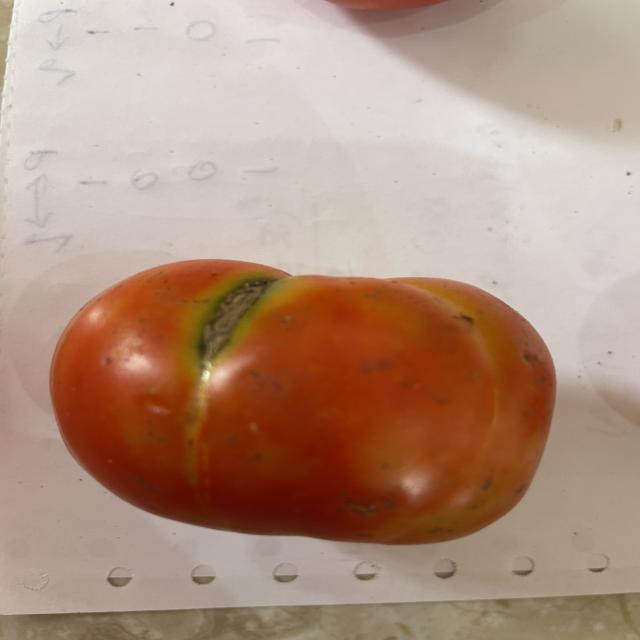tomato_cracking: (181, 266, 284, 385)
